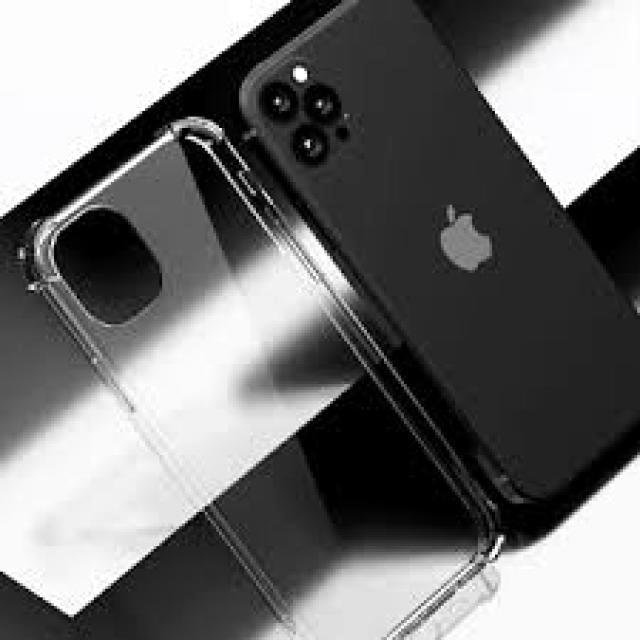lens_back: (254, 74, 302, 126), (300, 81, 345, 127), (288, 122, 332, 167)
phone: (247, 6, 637, 501)
